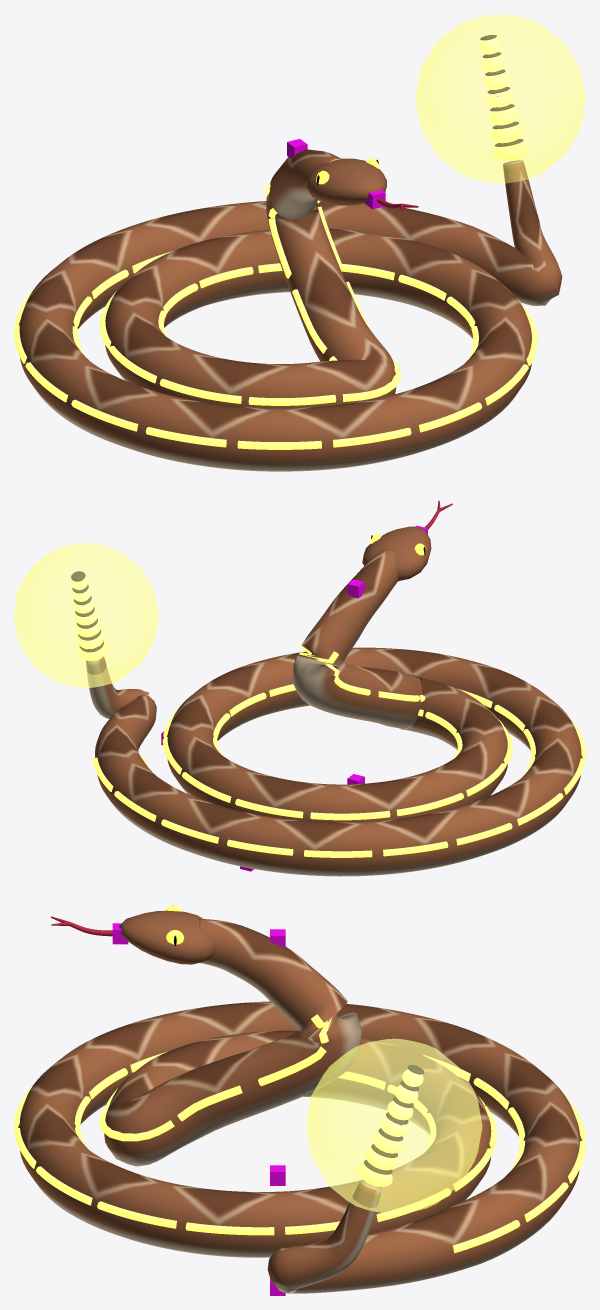
File: 04_vipera_sonaglio.glb
3 views of the same model, one above another, from view 1: azimuth 30°, elevation 25°; view 2: azimuth 150°, elevation 25°; view 3: azimuth 270°, elevation 25° (orthographic). The views are drawn at different scales.
Parts seen in each view (by area): view 1: Vipera__Squame_Terracotta, Vipera__Alone_Sonaglio, Vipera__Testa, Vipera__Striscia_1, Vipera__Striscia_3, Vipera__Striscia_4, Vipera__Striscia_2, Vipera__Striscia_5, Vipera__Striscia_0, Vipera__Striscia_6, Vipera__Striscia_7, Vipera__Anelli_Scuri; view 2: Vipera__Squame_Terracotta, Vipera__Alone_Sonaglio, Vipera__Testa, Vipera__Striscia_1, Vipera__Striscia_0, Vipera__Striscia_2, Vipera__Striscia_4, Vipera__Striscia_3, Vipera__Striscia_5, Vipera__Striscia_7, Vipera__Striscia_6, Vipera__Anelli_Scuri; view 3: Vipera__Squame_Terracotta, Vipera__Alone_Sonaglio, Vipera__Testa, Vipera__Striscia_3, Vipera__Striscia_1, Vipera__Striscia_2, Vipera__Striscia_0, Vipera__Striscia_7, Vipera__Striscia_4, Vipera__Anelli_Scuri, Vipera__Striscia_5, Vipera__Striscia_6.
Boxes of the visible parts, x1,y1,x2,y2 form: Vipera__Squame_Terracotta: [19, 149, 562, 471]; Vipera__Alone_Sonaglio: [416, 14, 585, 183]; Vipera__Testa: [305, 158, 386, 205]; Vipera__Striscia_1: [132, 206, 411, 447]; Vipera__Striscia_3: [145, 263, 401, 447]; Vipera__Striscia_4: [71, 274, 446, 431]; Vipera__Striscia_2: [237, 263, 372, 449]; Vipera__Striscia_5: [25, 296, 532, 403]; Vipera__Striscia_0: [91, 184, 482, 432]; Vipera__Striscia_6: [14, 322, 537, 383]; Vipera__Striscia_7: [15, 288, 528, 405]; Vipera__Anelli_Scuri: [480, 35, 523, 146]; Vipera__Squame_Terracotta: [86, 549, 582, 876]; Vipera__Alone_Sonaglio: [14, 543, 158, 687]; Vipera__Testa: [362, 526, 431, 581]; Vipera__Striscia_1: [227, 676, 492, 855]; Vipera__Striscia_0: [299, 646, 390, 857]; Vipera__Striscia_2: [161, 691, 572, 843]; Vipera__Striscia_4: [92, 708, 585, 794]; Vipera__Striscia_3: [114, 695, 585, 821]; Vipera__Striscia_5: [229, 692, 563, 825]; Vipera__Striscia_7: [383, 793, 463, 856]; Vipera__Striscia_6: [269, 684, 512, 845]; Vipera__Anelli_Scuri: [71, 571, 104, 652]; Vipera__Squame_Terracotta: [18, 919, 581, 1293]; Vipera__Alone_Sonaglio: [306, 1038, 482, 1214]; Vipera__Testa: [119, 910, 215, 964]; Vipera__Striscia_3: [99, 1051, 568, 1222]; Vipera__Striscia_1: [14, 1046, 585, 1150]; Vipera__Striscia_2: [34, 1068, 585, 1191]; Vipera__Striscia_0: [14, 1014, 565, 1168]; Vipera__Striscia_7: [36, 1055, 470, 1205]; Vipera__Striscia_4: [107, 1088, 520, 1252]; Vipera__Anelli_Scuri: [364, 1065, 424, 1174]; Vipera__Striscia_5: [185, 1222, 274, 1235]; Vipera__Striscia_6: [97, 1201, 176, 1228].
Size of the model in its own units: 3.95 by 1.7 by 3.3.
23 materials, 1 textured.
